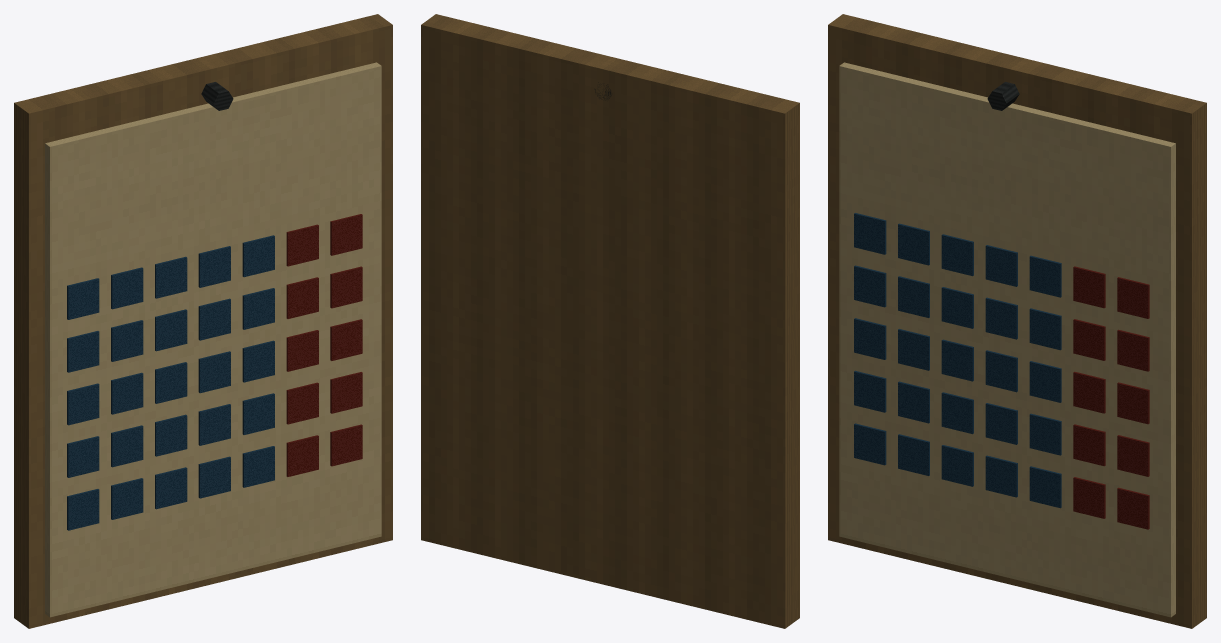
The model's file is level_trace_calendar.glb.
3 renders of one model, left to right at view 1: azimuth 30°, elevation 25°; view 2: azimuth 150°, elevation 25°; view 3: azimuth 330°, elevation 25°, orthographic.
Parts seen in each view (by area): view 1: level_trace_calendar; view 2: level_trace_calendar; view 3: level_trace_calendar.
Part boxes in pixels (x1,y1,x2,y2): level_trace_calendar: (14,14,392,628); level_trace_calendar: (421,14,799,628); level_trace_calendar: (828,14,1206,628).
Size of the model in its own units: 0.34 by 0.46 by 0.045.
5 materials, 5 textured.
